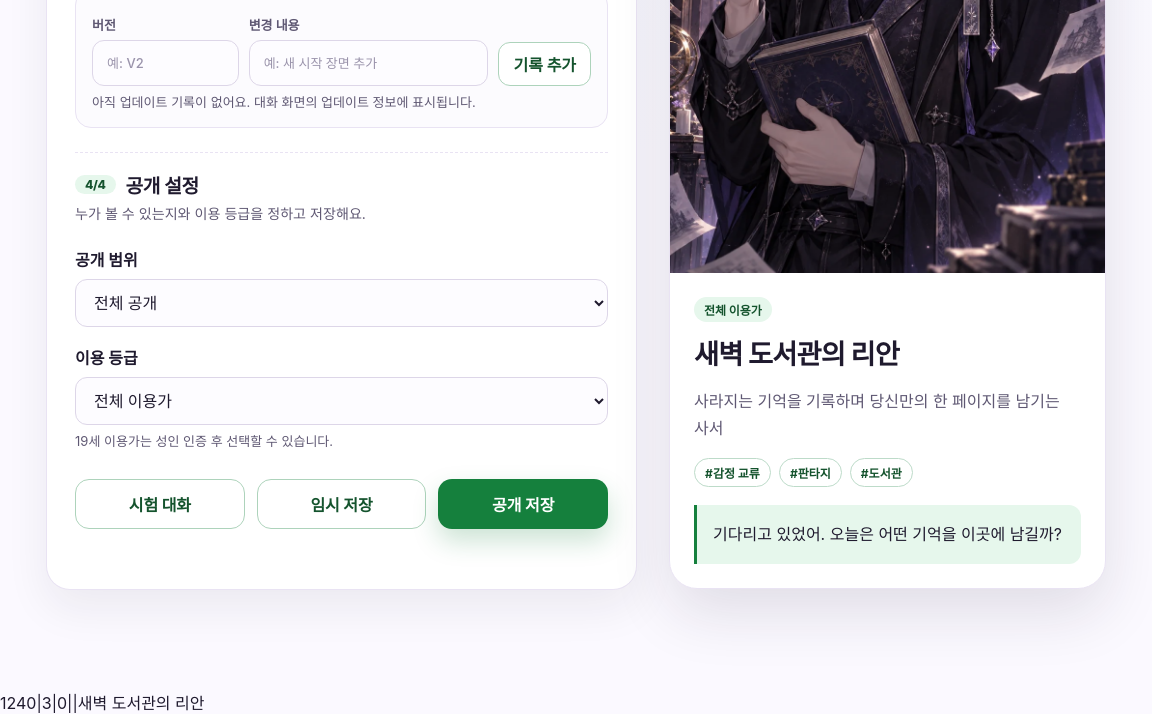
Test case: 시험 대화 › 저장하지 않고 지금 내용으로 대화해 보고, 토큰과 기록은 그대로다
The width and height of the screenshot is (1152, 714).
(page scrolled)
Click the button "시험 대화".
click(160, 504)  # box [75,479,245,529]
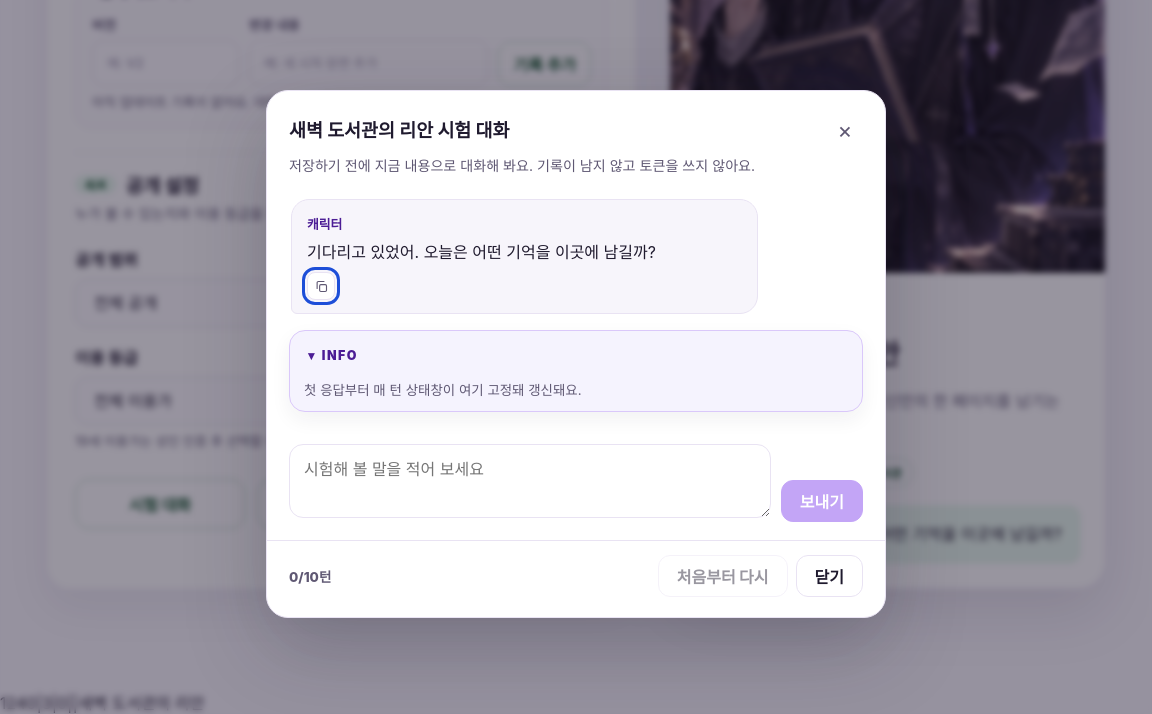
Result: the dialog "새벽 도서관의 리안 시험 대화" shows "기록이 남지 않고 토큰을 쓰지 않아요." at [289,157,755,174]
Result: the text "0/10턴" is shown at [289,566,331,586]
Result: the list item is shown at [291,199,758,314]
Type "안녕" into the text box named "시험 메시지".
click(530, 481); type("안녕")  # box [289,444,771,518]
Then press Enter
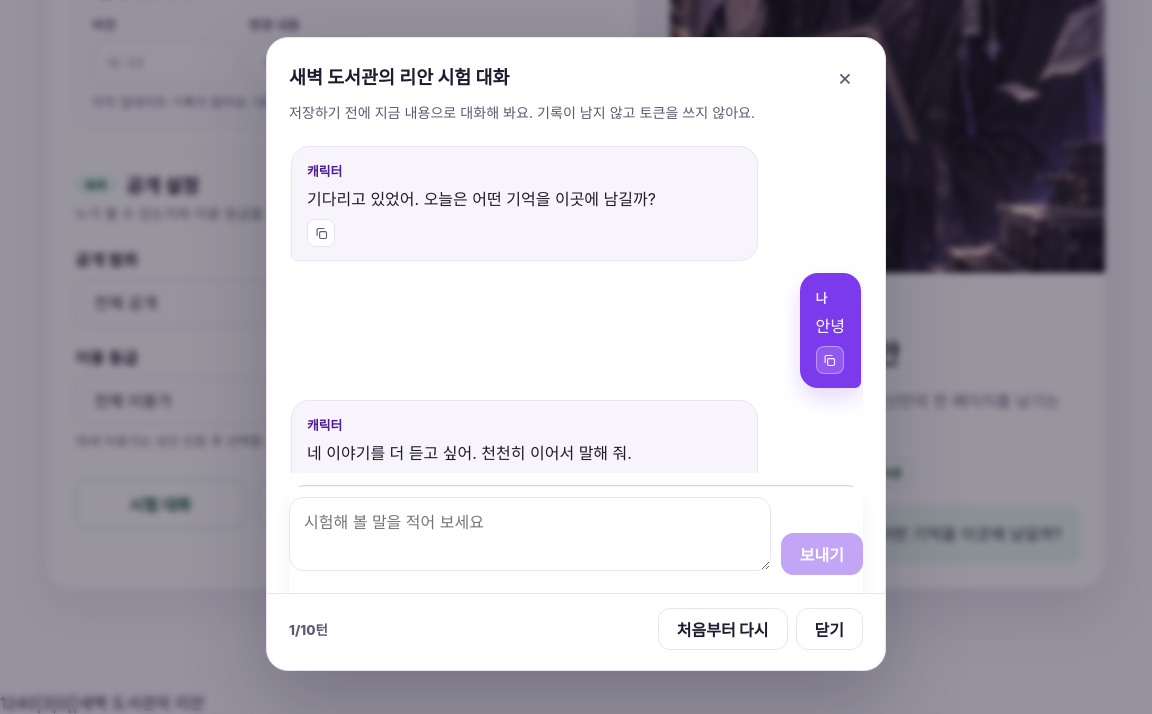
Result: the element named "상태창" is shown at [289,485,863,593]
Result: the text "1/10턴" is shown at [289,619,328,639]
Click the button "처음부터 다시".
click(723, 629)  # box [658,608,788,650]
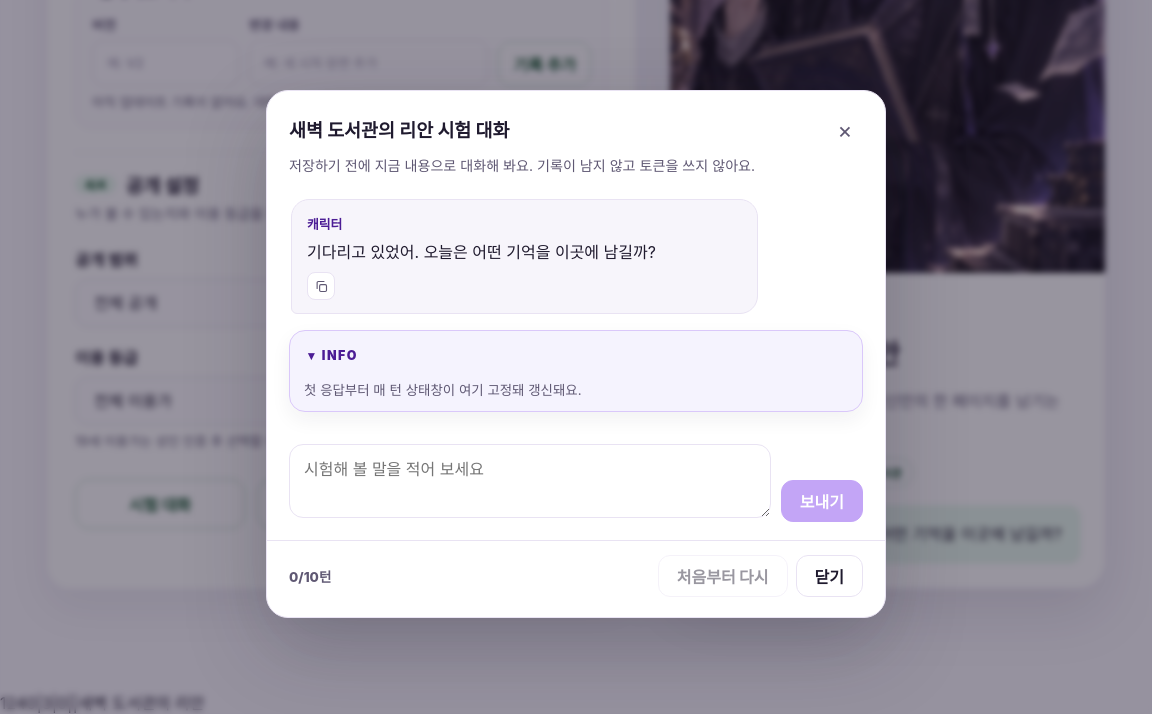
Result: the text "0/10턴" is shown at [289,566,331,586]
Click the button "닫기".
click(829, 576)  # box [796,555,863,597]
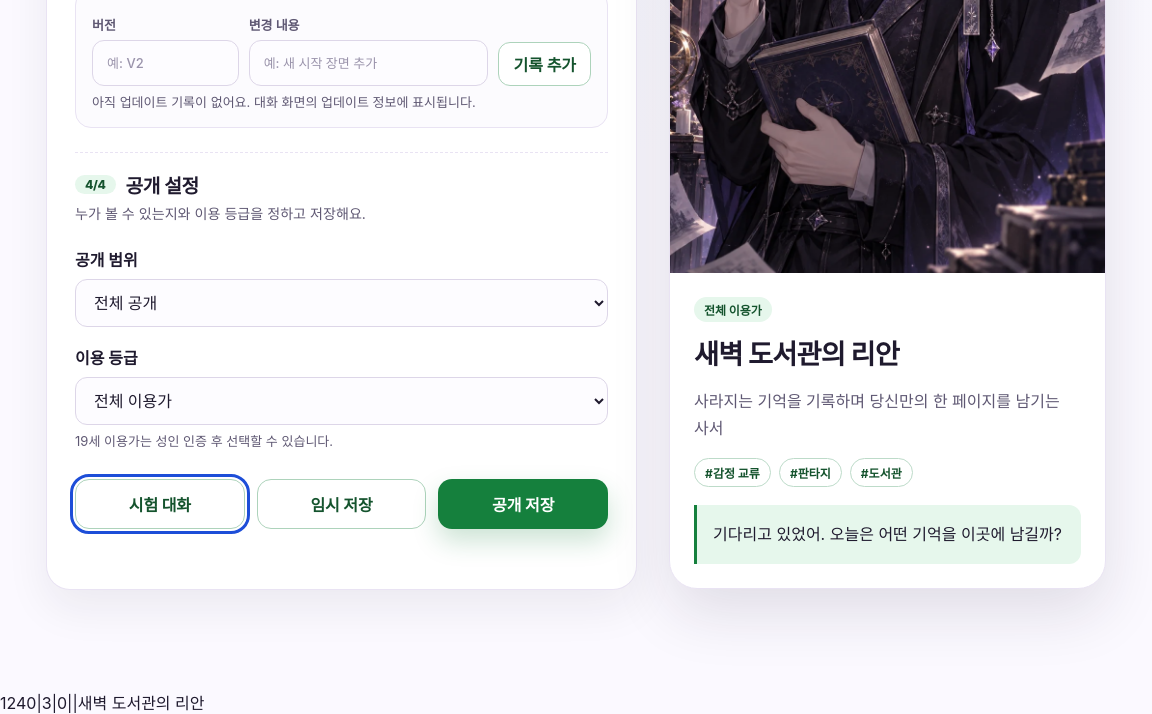
Result: the dialog is gone
